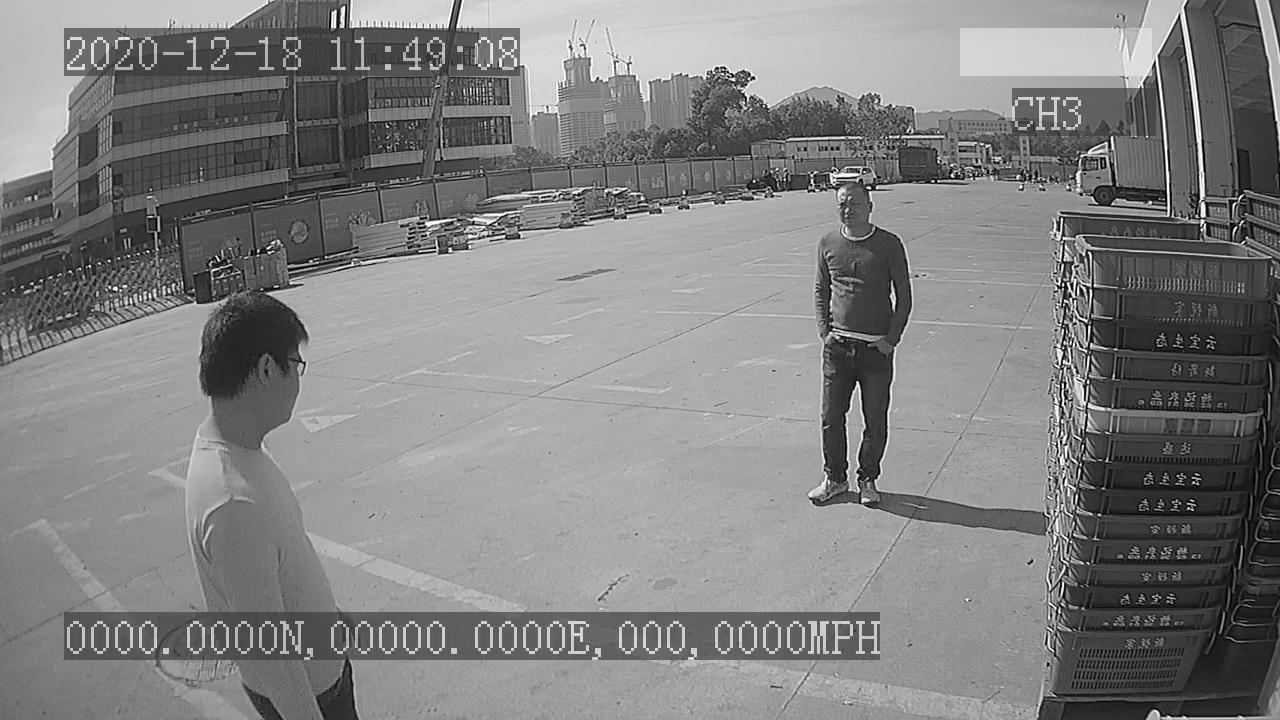person: (802, 179, 917, 508)
